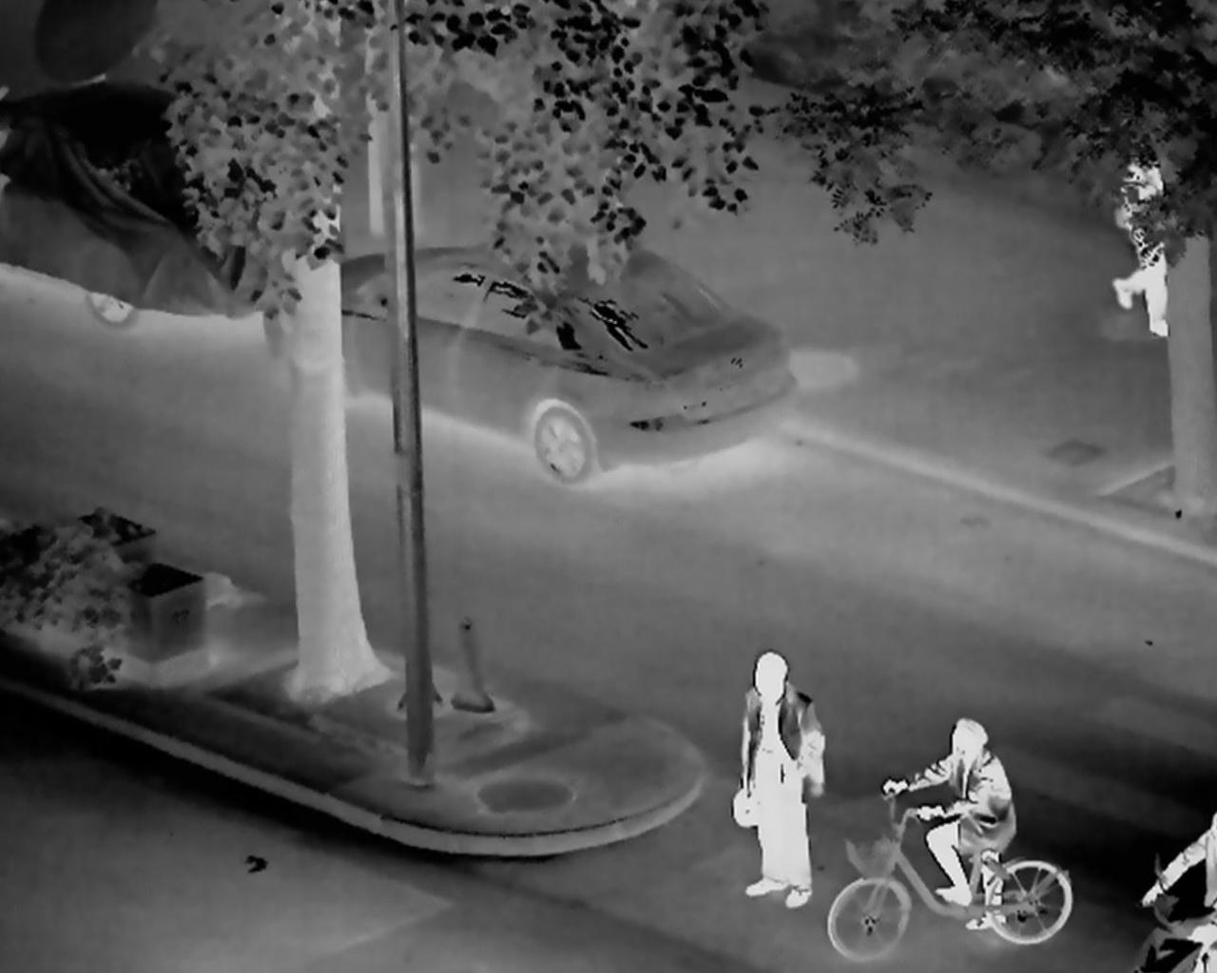person: (883, 720, 1014, 931), (735, 648, 826, 908), (1109, 137, 1181, 337), (1139, 805, 1217, 951)
